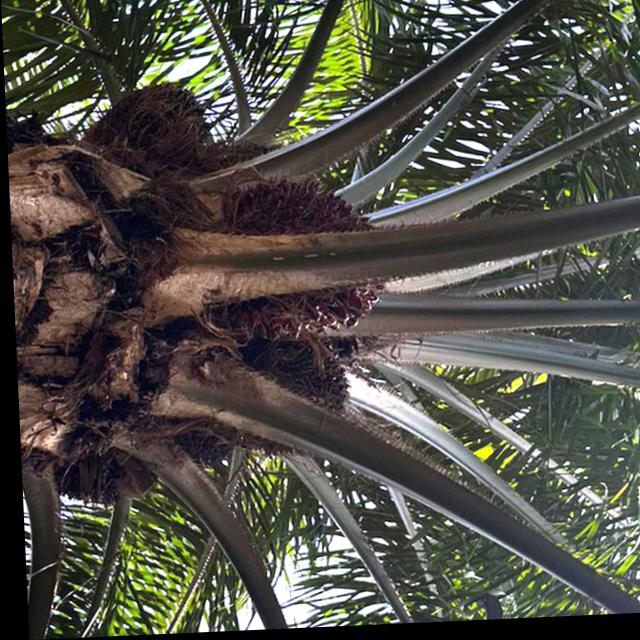ripe: (202, 163, 405, 356)
